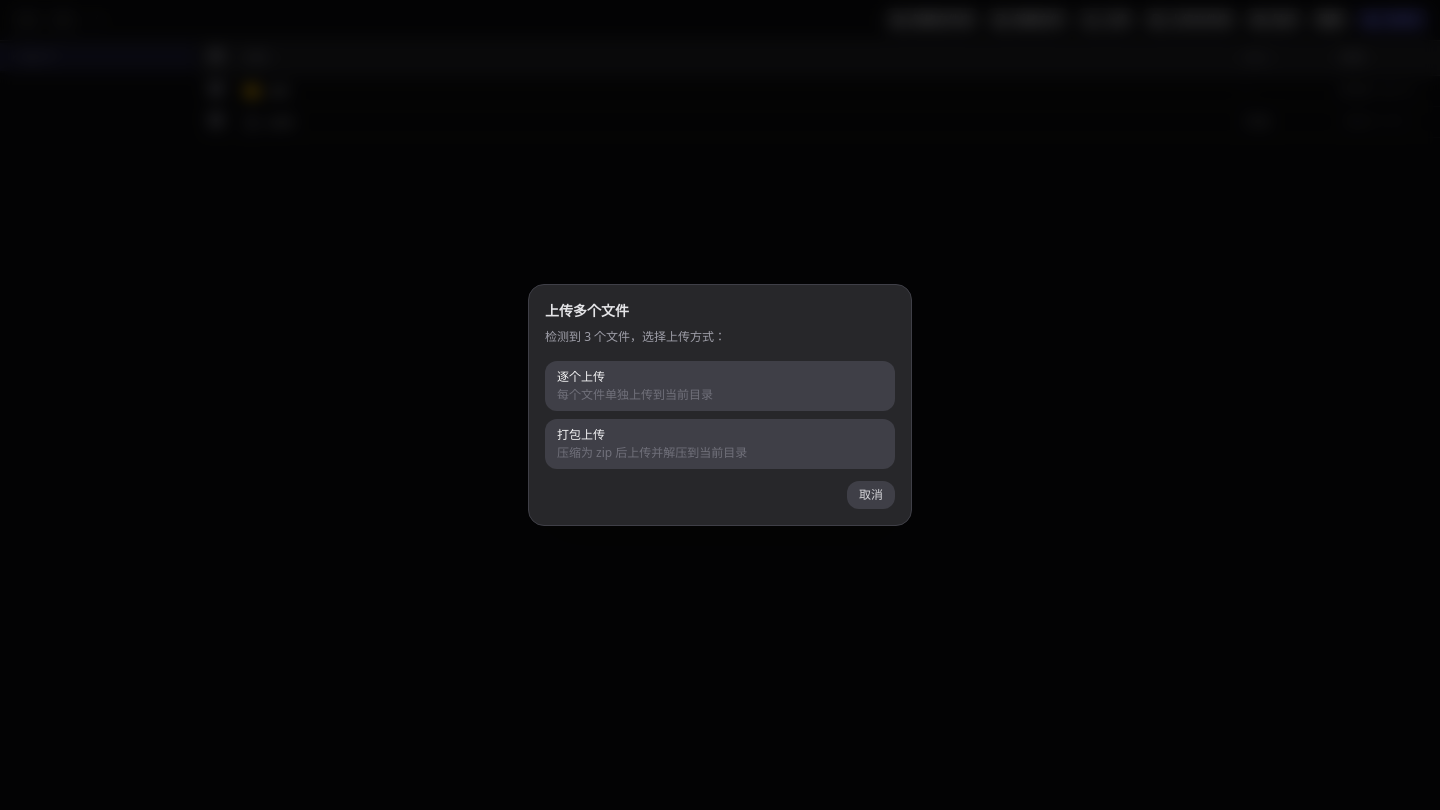
Scenario: FileManagerPanel 拖拽打包上传 › 全部条目复制失败时中止并报错，不留空任务
Step 1. Click the button "打包上传 压缩为 zip 后上传并解压到当前目录" → click(720, 444), box [545,419,895,469]
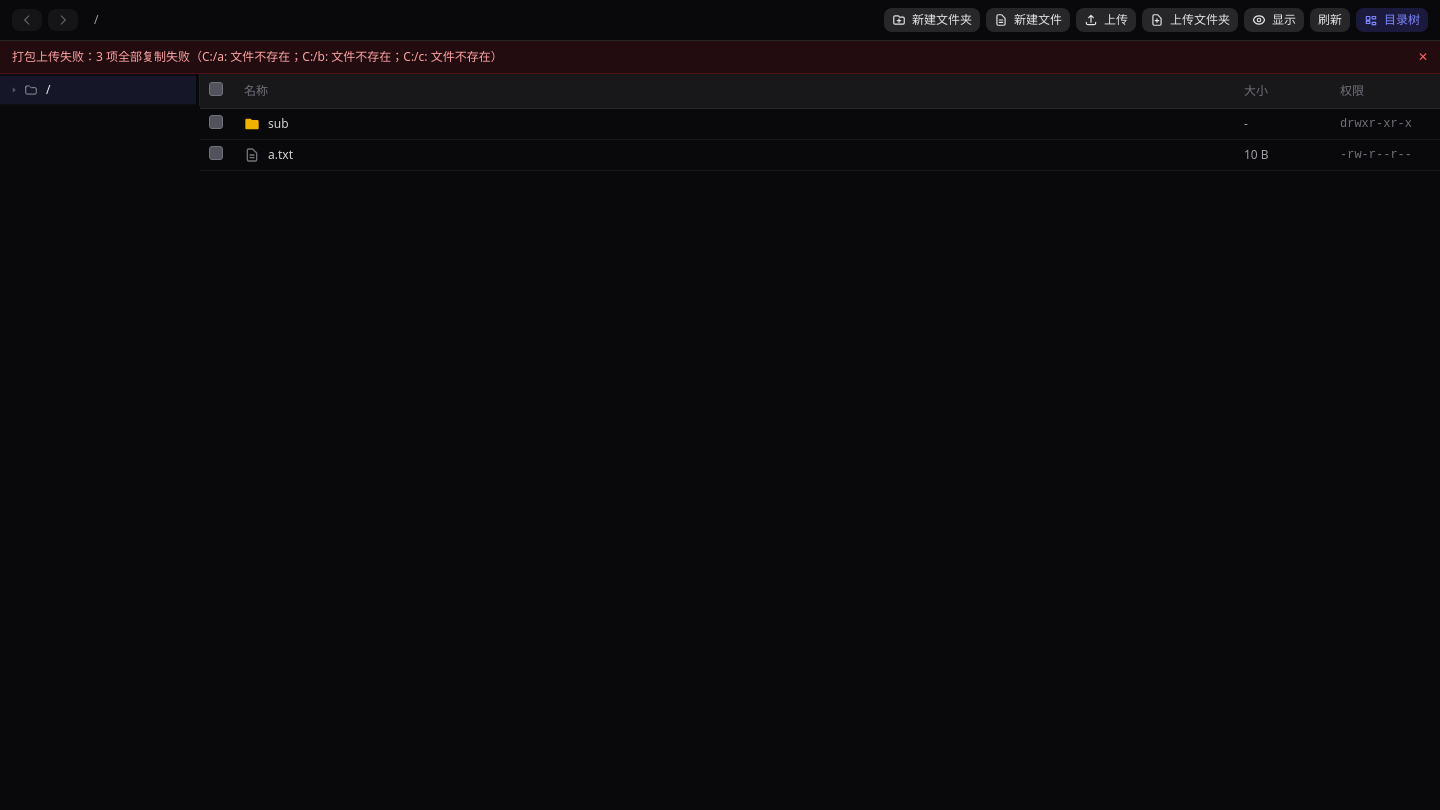
expect the text "全部复制失败" is shown: met, box [12,48,503,65]
expect the text "C:/a: 文件不存在" is shown: met, box [12,48,503,65]
